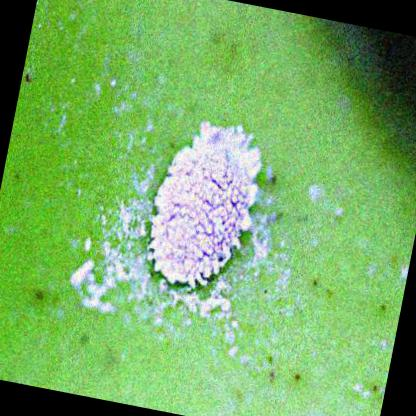mealy bug: (148, 122, 262, 284)
